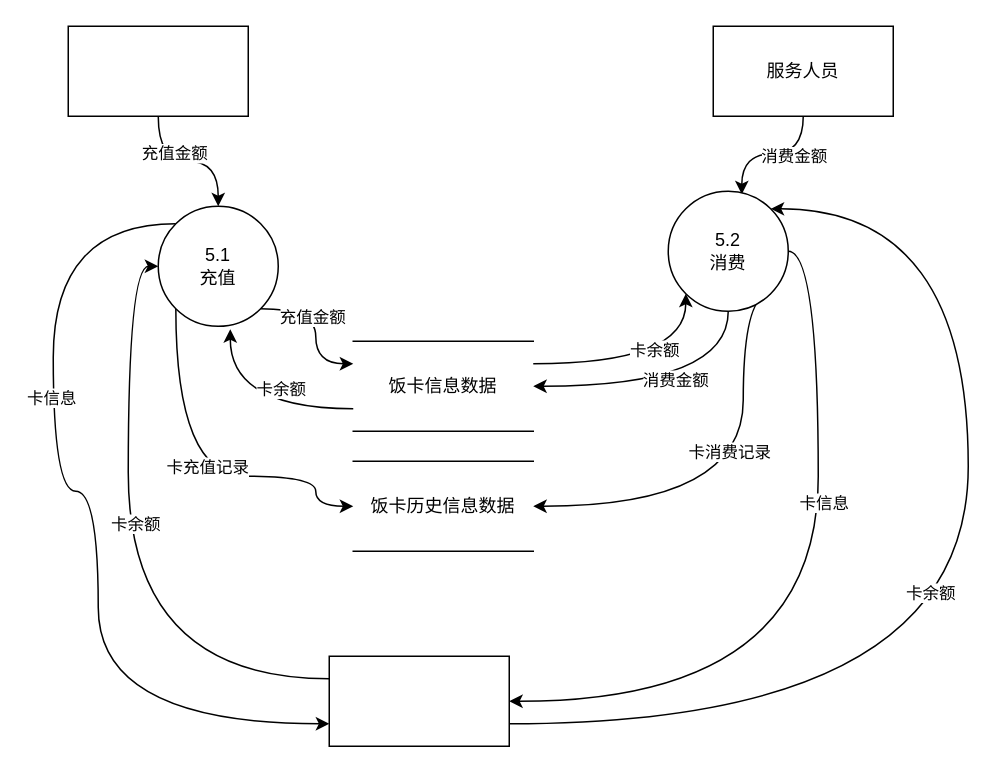
This 995x773 diagram has some shape labels left out. The shapes that lost their labels are listed below. From the top down, each one's box as (x1, y1, x2, y2) in pixels, then its label:
(67, 25, 248, 116): 学生/教职工
(328, 655, 509, 746): 充值、刷卡设备
